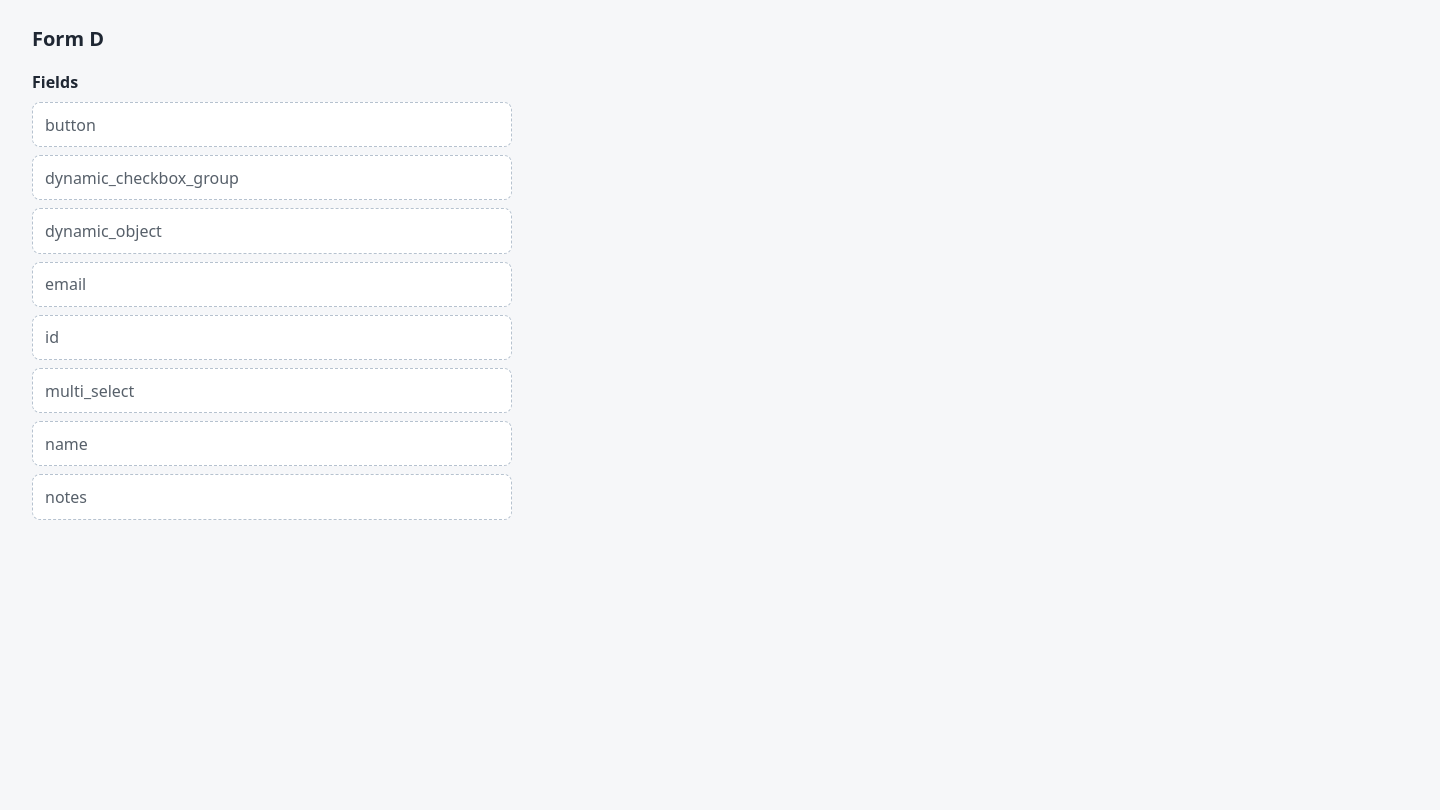
Test case: PrefillPanel › closes modal leaving field unmapped when cancel is clicked
Click the button with aria-label "Map email": (66, 284) left=32, top=262, right=512, bottom=307
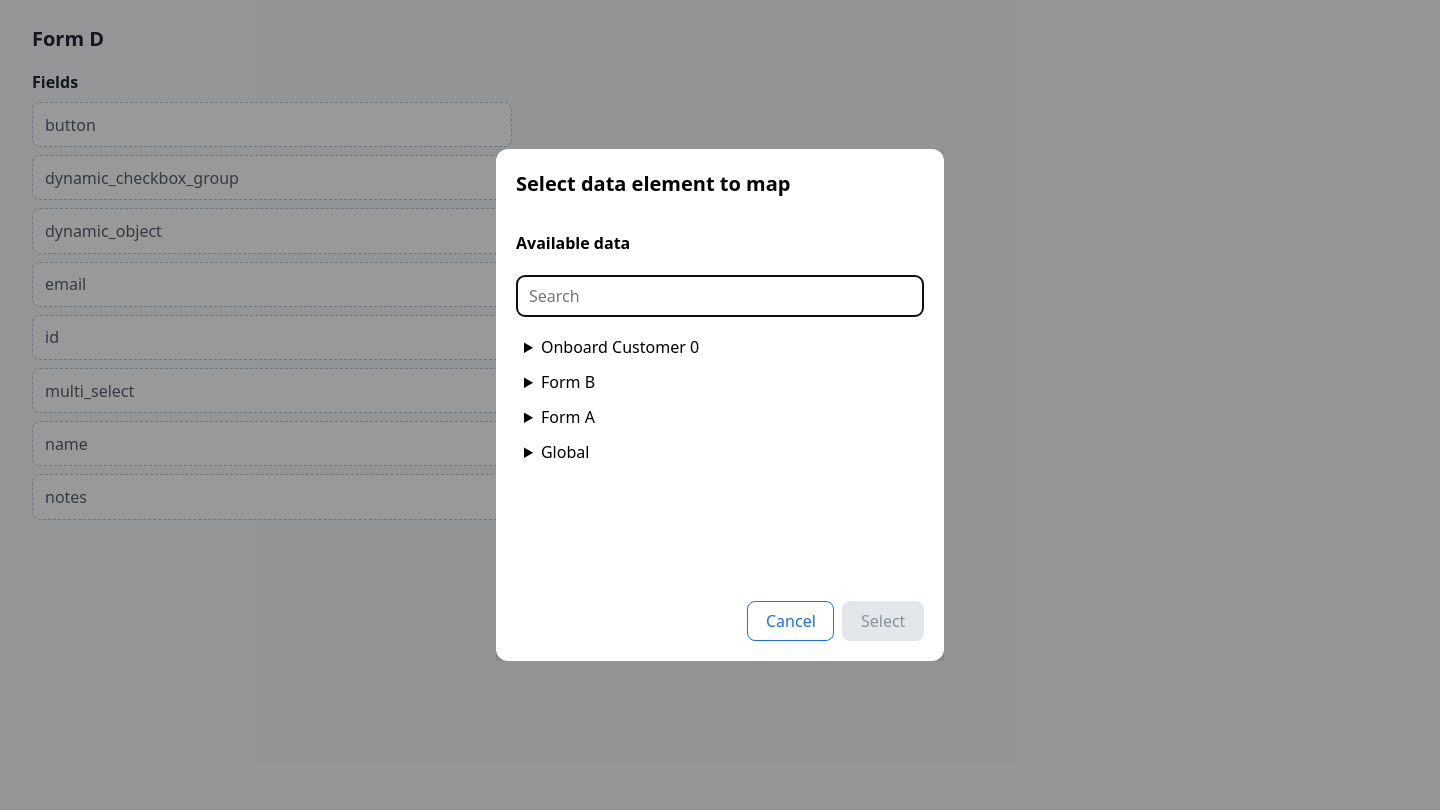
Click the button "Cancel": (791, 621) left=747, top=601, right=834, bottom=641
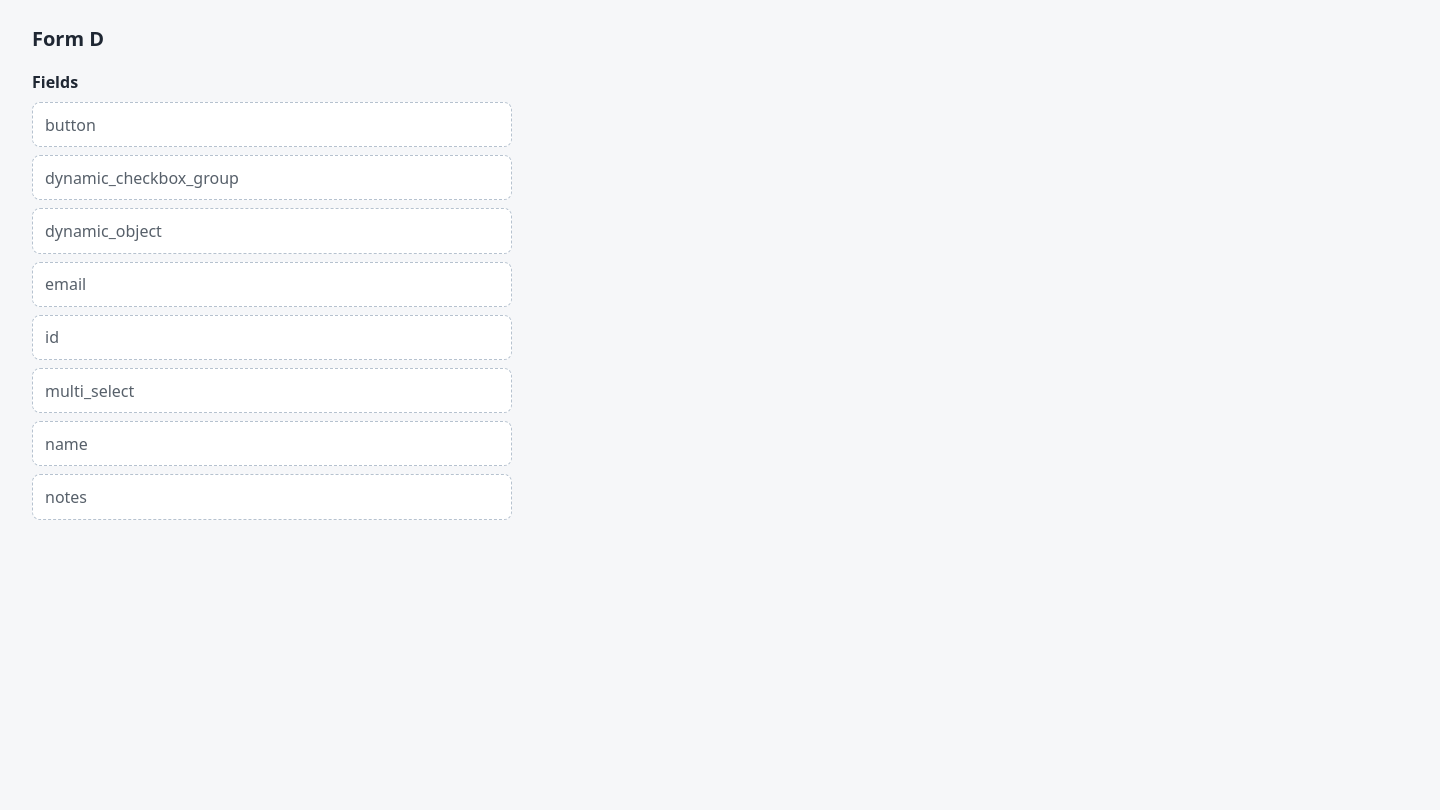
Expected: the dialog is gone
